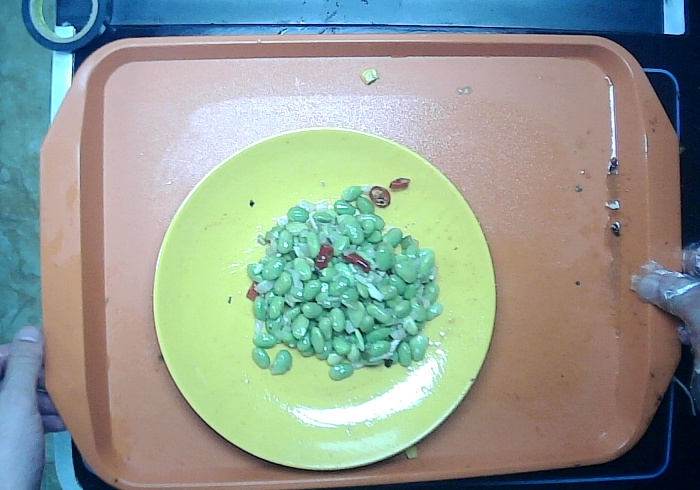HZYJPL-Huang_Se_Yuan_Pan: (149, 125, 497, 471)
